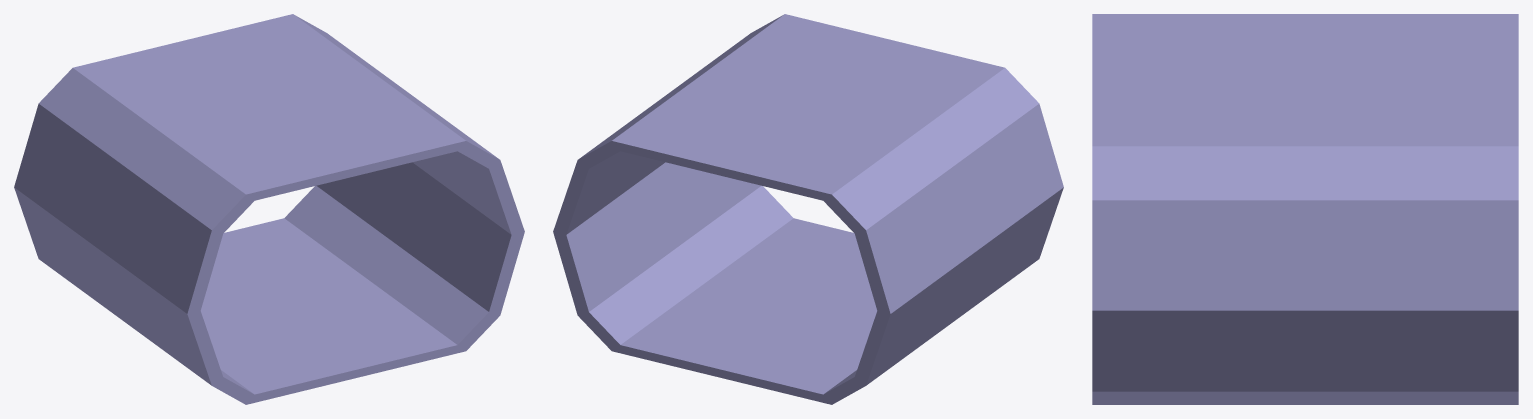
The model's file is corridor_main_empty.fbx.
3 renders of one model, left to right at view 1: azimuth 30°, elevation 25°; view 2: azimuth 150°, elevation 25°; view 3: azimuth 270°, elevation 25°, orthographic. The views are drawn at different scales.
Parts seen in each view (by area): view 1: base_corridor9; view 2: base_corridor9; view 3: base_corridor9.
Part boxes in pixels (left/top/right/bottom): base_corridor9: left=14, top=14, right=524, bottom=404; base_corridor9: left=553, top=14, right=1063, bottom=404; base_corridor9: left=1092, top=14, right=1518, bottom=404.
Size of the model in its own units: 50.2 by 29.9 by 44.64.
